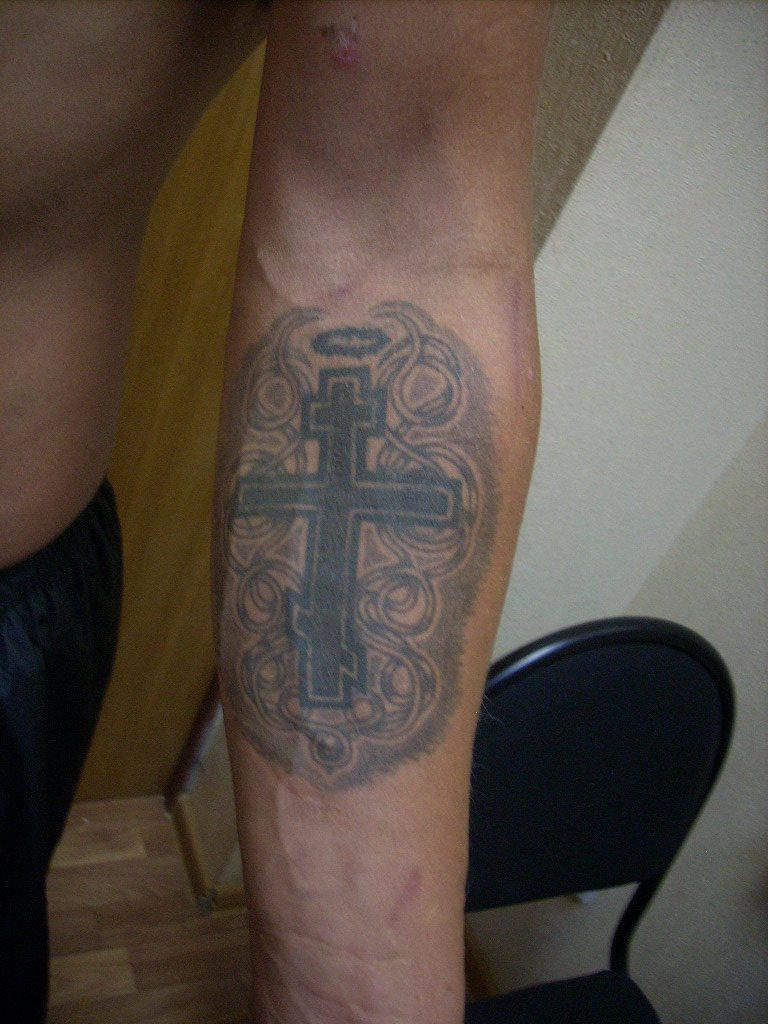tatu9_krest: (211, 329, 494, 739)
